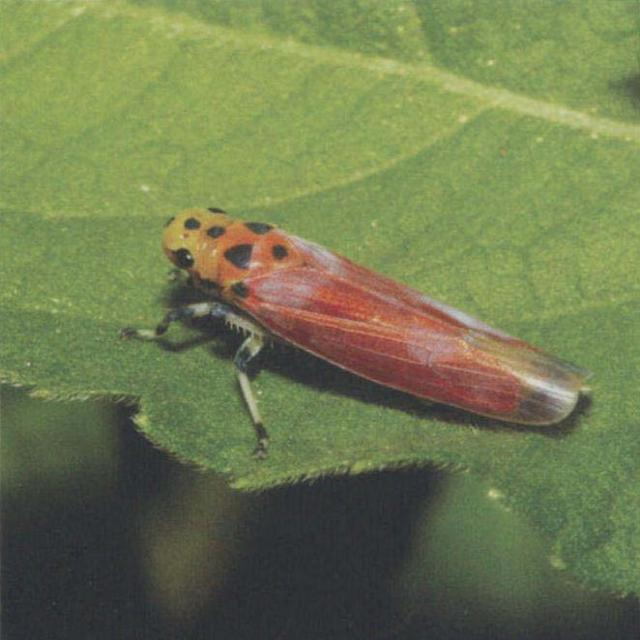Yechan: (129, 204, 602, 442)
